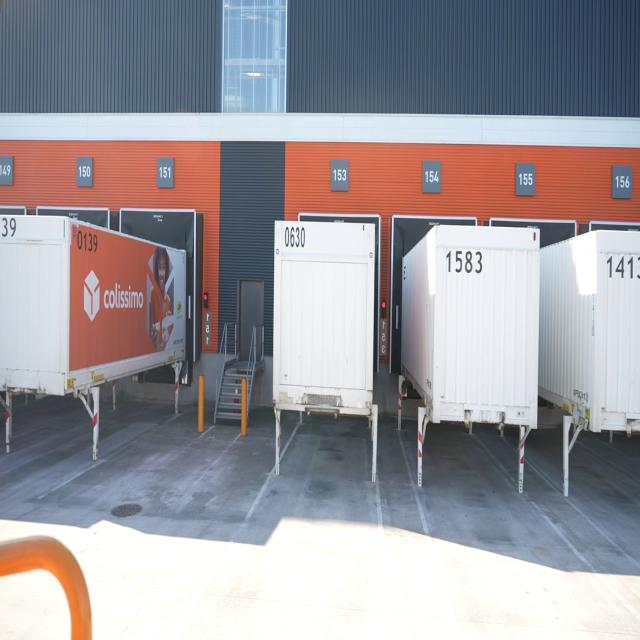Code: (442, 246, 483, 278), (75, 227, 101, 254), (284, 224, 308, 250)
